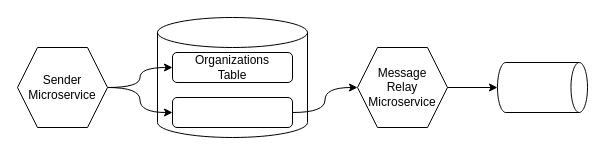
This 605x155 diagram has some shape labels left out. The centre of each missing label's shape, as x and y in pixels:
Message Outbox Table: point 232,112
Queue: point 542,87
